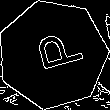P_W: (23, 29, 83, 79)
